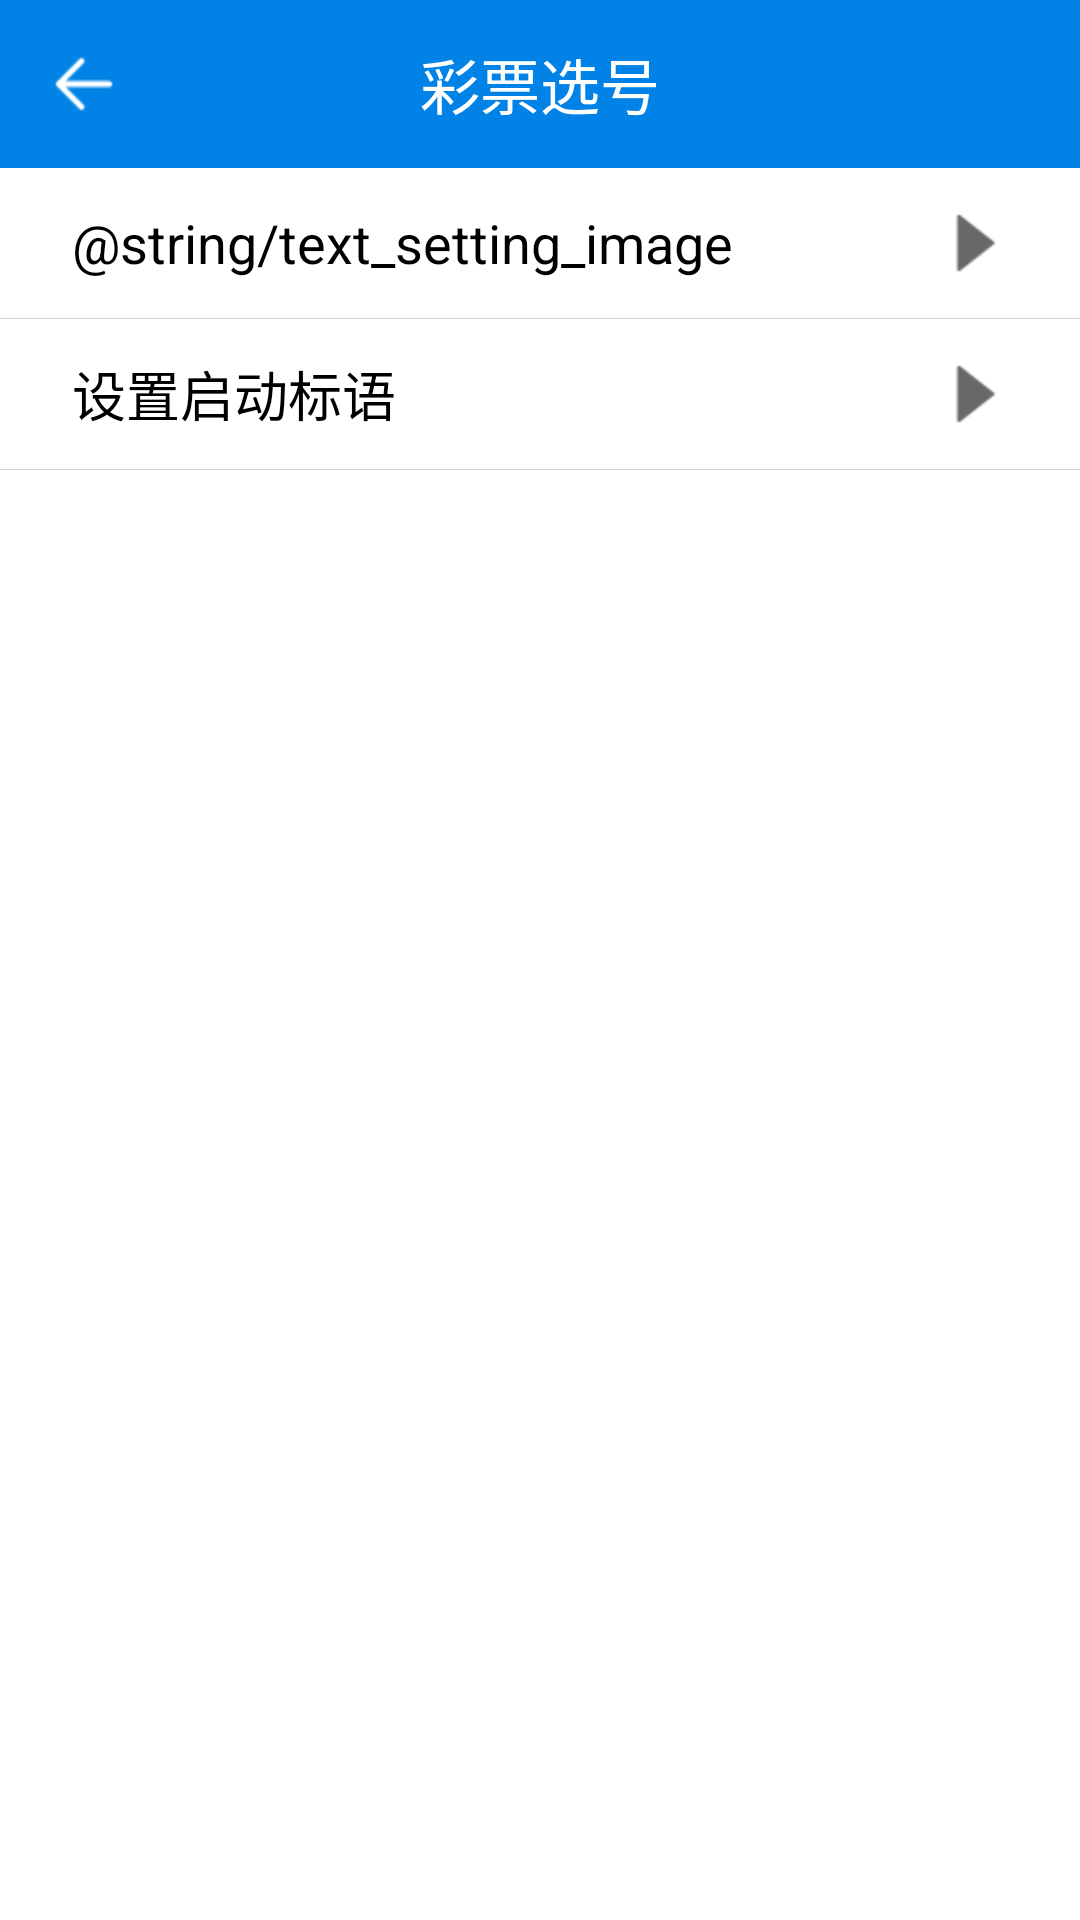

Icons on this 1080x1920 Android screen, each with its box as rect(x1, y1, x2, y2):
right arrow: rect(956, 214, 995, 272), rect(956, 365, 995, 423)
